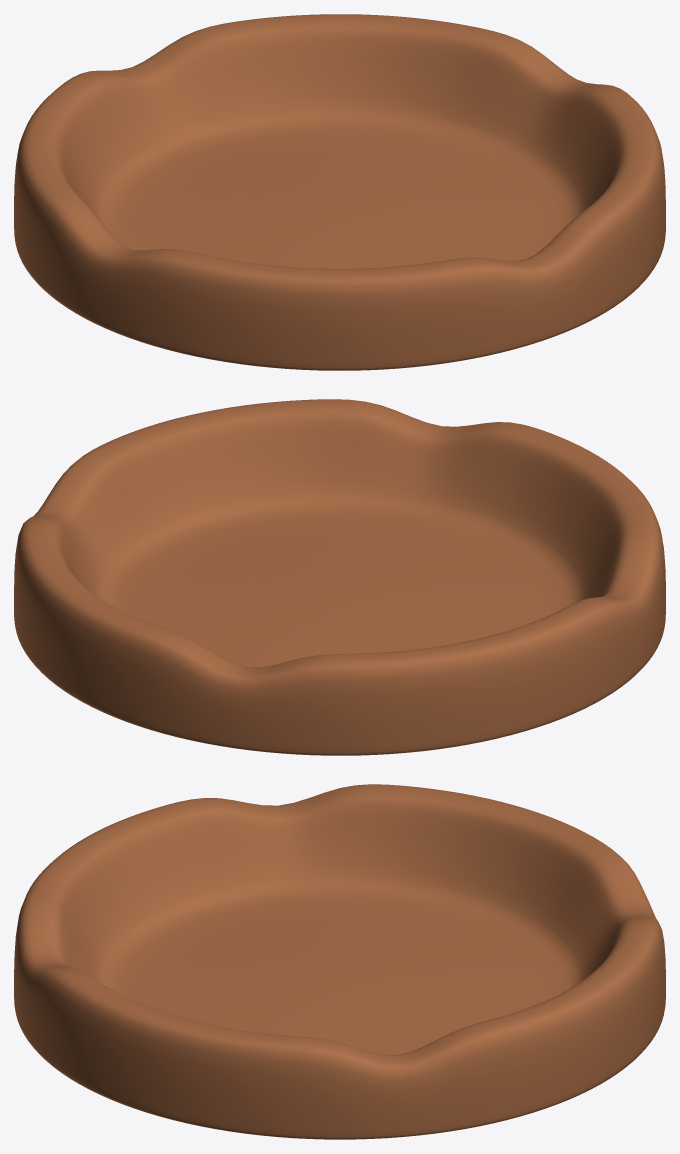
The model's file is cenicero.fbx.
3 renders of one model, top to bottom at view 1: azimuth 30°, elevation 25°; view 2: azimuth 150°, elevation 25°; view 3: azimuth 270°, elevation 25°, orthographic.
Visible parts, largest first — view 1: cenicero; view 2: cenicero; view 3: cenicero.
Boxes of the visible parts, x1=… form: cenicero: x1=14, y1=14, x2=665, y2=370; cenicero: x1=14, y1=399, x2=665, y2=755; cenicero: x1=14, y1=784, x2=665, y2=1139.
Bounding box in the file's own units: 11.09 × 1.66 × 11.09.
